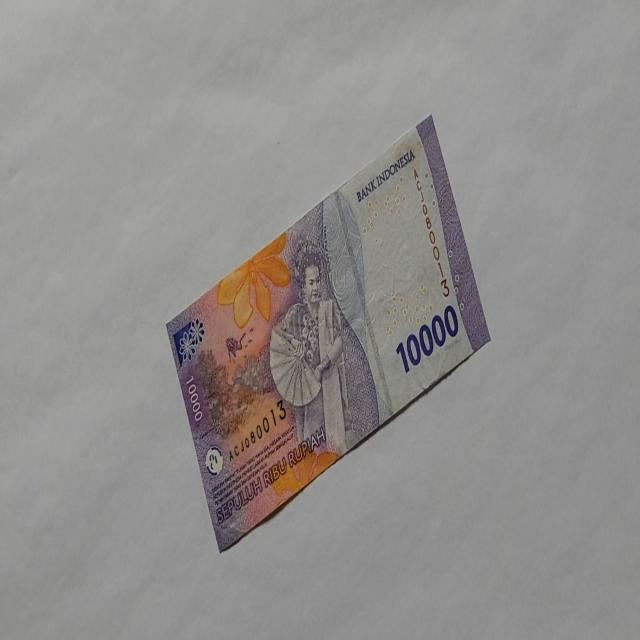sepuluh ribu rupiah: (164, 112, 492, 552), (394, 303, 460, 374), (354, 146, 416, 204)
